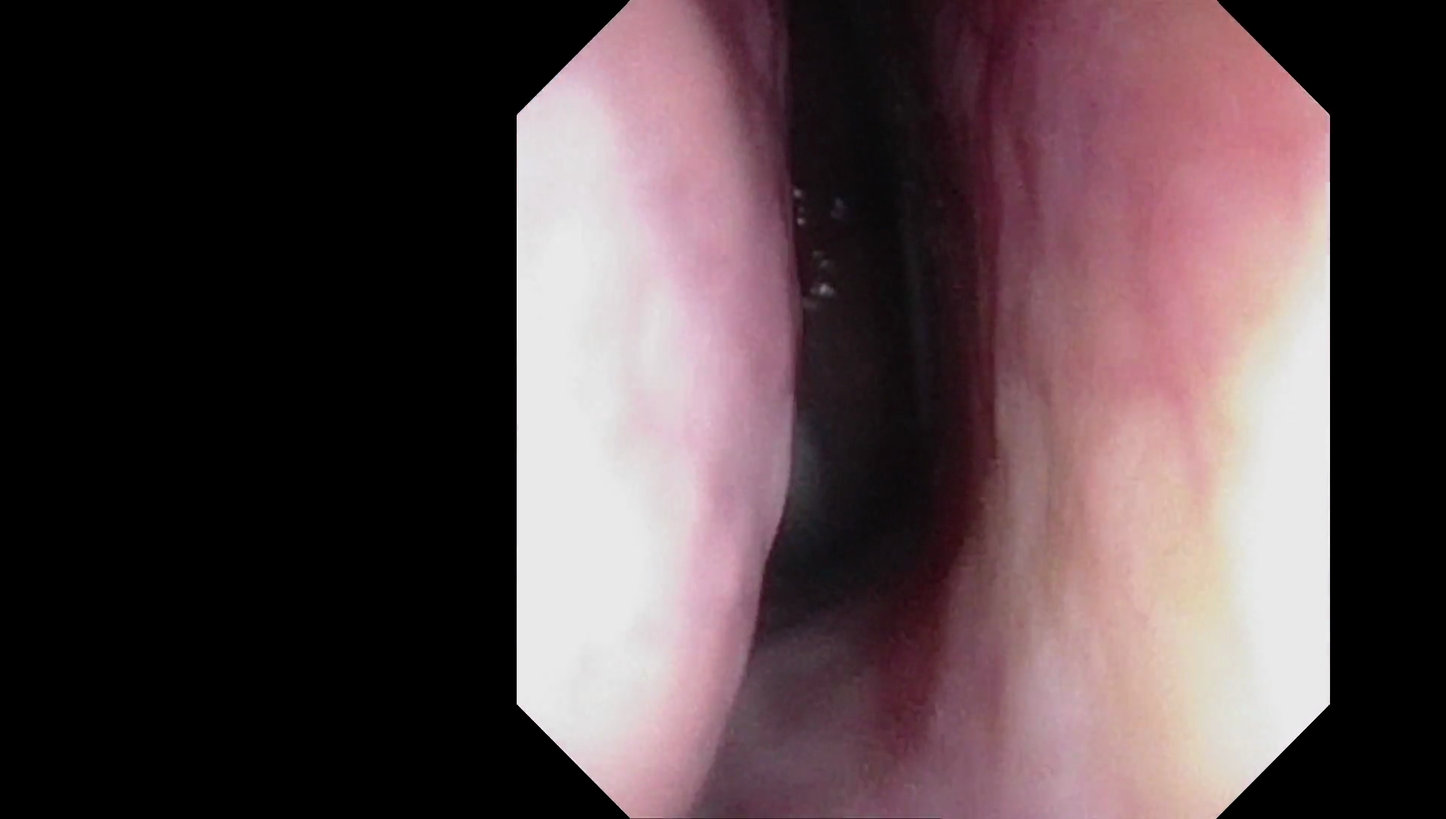close_wall: (1013, 168, 1315, 702), (523, 130, 780, 699)
next: (716, 17, 1028, 674)
